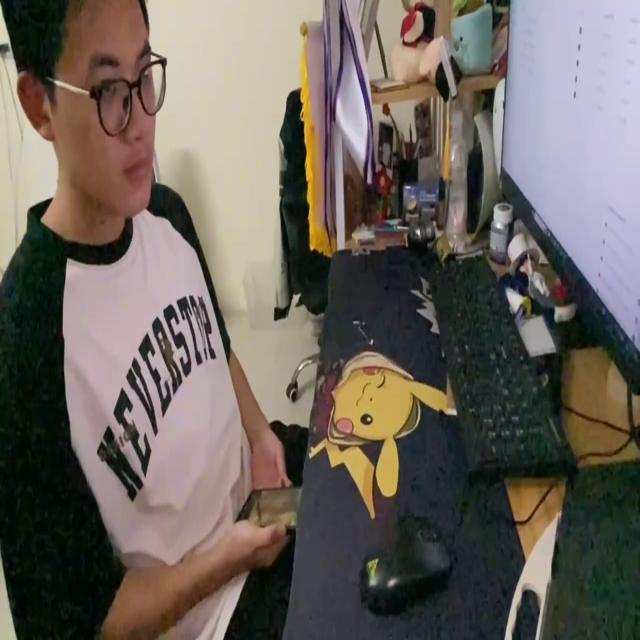laptop: (499, 2, 640, 401)
phone: (230, 473, 298, 530)
student: (0, 0, 299, 640)
